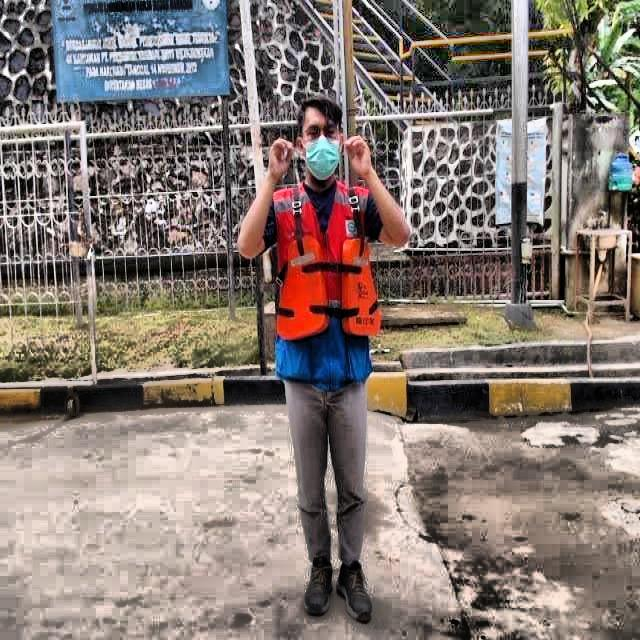safety_jacket: (273, 183, 379, 381)
